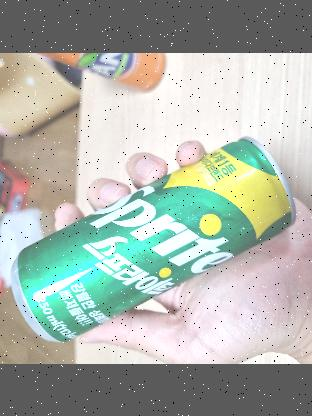Can: (24, 139, 288, 357)
